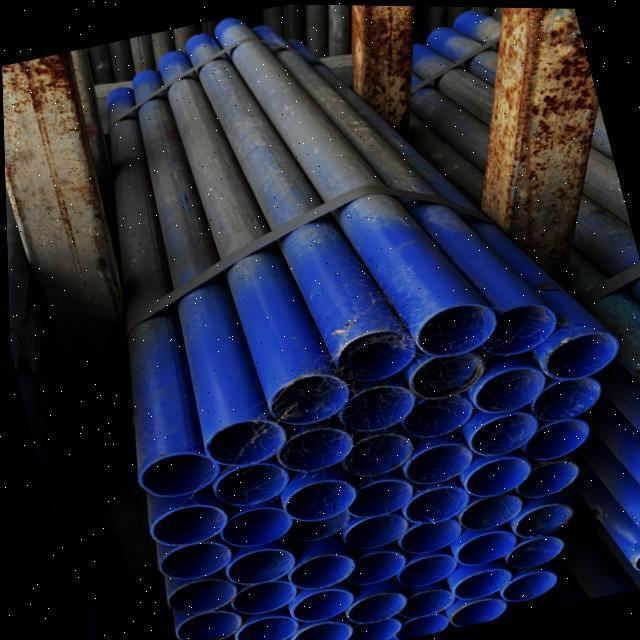pipe: (328, 325, 413, 383), (414, 301, 495, 355), (262, 374, 342, 428), (335, 428, 412, 483), (503, 412, 587, 462), (475, 300, 553, 353), (400, 432, 471, 489), (202, 416, 281, 467), (388, 389, 473, 436), (520, 374, 598, 425), (334, 380, 412, 430), (408, 348, 484, 399), (134, 450, 218, 496), (214, 459, 290, 509), (541, 327, 615, 378), (217, 498, 293, 547), (153, 539, 234, 584), (273, 422, 347, 471), (471, 360, 542, 411), (501, 454, 577, 501), (146, 503, 227, 547), (464, 408, 539, 455), (278, 474, 350, 521), (342, 468, 412, 516), (460, 449, 531, 496), (332, 544, 409, 585), (217, 579, 300, 616), (397, 479, 466, 523), (216, 544, 293, 583), (335, 509, 406, 551), (496, 529, 562, 574), (455, 487, 525, 529), (389, 515, 466, 552), (505, 494, 568, 537), (390, 547, 453, 589), (166, 580, 230, 621), (337, 585, 406, 622), (281, 552, 346, 591), (451, 525, 514, 565), (165, 605, 235, 640), (392, 580, 451, 620), (289, 584, 349, 621), (450, 561, 511, 597), (277, 510, 350, 540), (497, 566, 556, 602), (446, 589, 503, 626), (388, 608, 445, 640), (230, 612, 293, 640), (342, 615, 397, 640), (285, 619, 348, 640), (628, 547, 640, 570)
